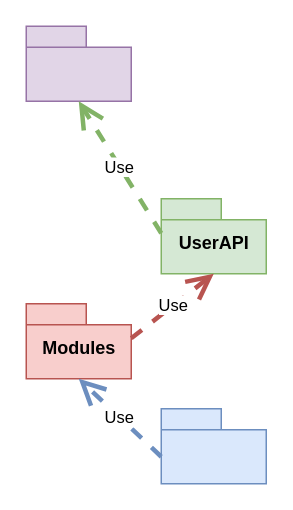
Some shapes in this 293 by 510 pixel diagram are drawn without their labels. Each missing label, with the centre of its shape:
"Framework" goes at (213,445).
"NWChemEx" goes at (78,63).
